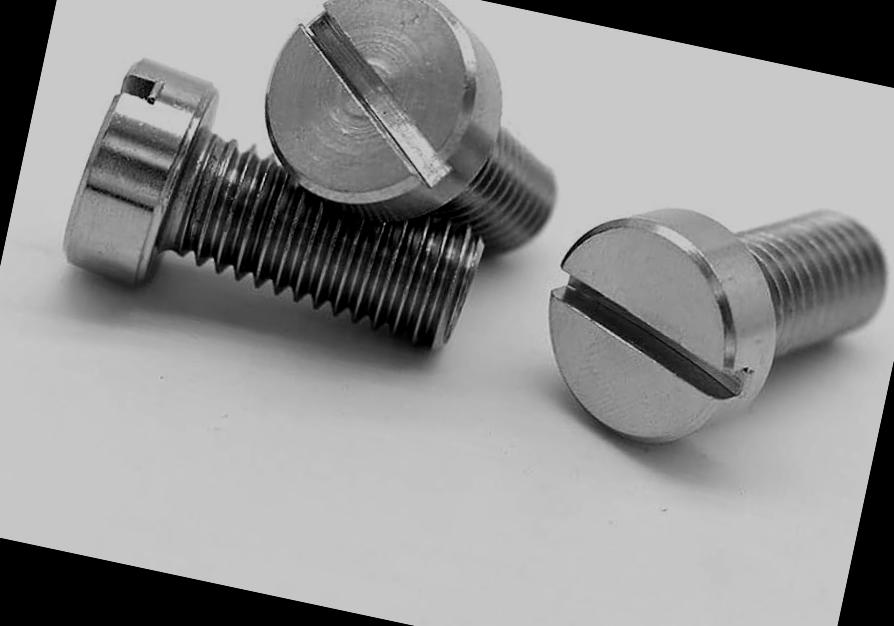screw: (520, 182, 798, 477), (246, 0, 517, 239)
